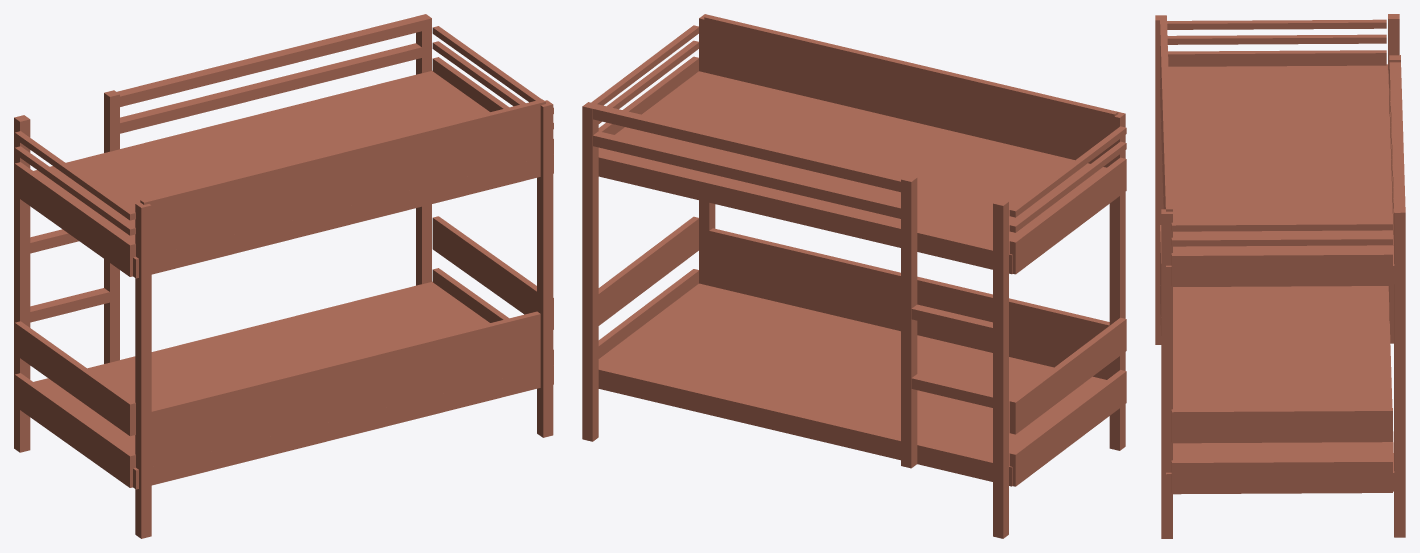
The picture shows the model from 3 angles, left to right: view 1: azimuth 30°, elevation 25°; view 2: azimuth 150°, elevation 25°; view 3: azimuth 270°, elevation 25°; orthographic projection. The views are drawn at different scales.
Visible parts, largest first — view 1: upper_deck, lower_deck, upper_side, lower_side, posts.001, posts.002, guard_rail.001, guard_rail, end_board.003, end_board.001, end_board.005, end_board.004 (+11 smaller); view 2: lower_deck, upper_deck, upper_side, lower_side, posts.004, posts.003, guard_rail.001, guard_rail, ladder_upright, end_board.003, end_board.005, end_board.001 (+11 smaller); view 3: upper_deck, lower_deck, end_board.004, end_board.002, end_board.006, posts.004, posts.002, end_board.005, end_board.008, end_board.010, end_board.007, end_board.009 (+5 smaller).
Part boxes in pixels (x1,y1,x2,y2): upper_deck: (34, 70, 553, 278); lower_deck: (34, 281, 553, 489); upper_side: (140, 99, 545, 255); lower_side: (151, 311, 540, 466); posts.001: (135, 202, 151, 538); posts.002: (537, 100, 553, 437); guard_rail.001: (117, 15, 426, 106); guard_rail: (120, 43, 421, 133); end_board.003: (14, 321, 135, 436); end_board.001: (14, 373, 135, 487); end_board.005: (14, 162, 135, 276); end_board.004: (432, 216, 553, 329); lower_deck: (598, 283, 1106, 486); upper_deck: (598, 71, 1106, 274); upper_side: (704, 15, 1118, 167); lower_side: (704, 228, 1114, 379); posts.004: (582, 102, 598, 441); posts.003: (993, 199, 1008, 538); guard_rail.001: (588, 103, 903, 192); guard_rail: (593, 131, 900, 218); ladder_upright: (901, 175, 917, 468); end_board.003: (1009, 317, 1126, 434); end_board.005: (1009, 157, 1126, 274); end_board.001: (1009, 370, 1126, 486); upper_deck: (1160, 64, 1394, 285); lower_deck: (1160, 285, 1394, 492); end_board.004: (1171, 408, 1392, 443); end_board.002: (1171, 459, 1392, 494); end_board.006: (1171, 252, 1392, 286); posts.004: (1394, 209, 1405, 537); posts.002: (1161, 209, 1172, 538); end_board.005: (1168, 50, 1386, 66); end_board.008: (1171, 236, 1392, 246); end_board.010: (1171, 221, 1392, 231); end_board.007: (1167, 34, 1386, 44); end_board.009: (1167, 19, 1386, 29).
Size of the model in its own units: 2.01 by 1.49 by 1.04.
